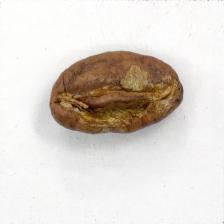NG: (61, 63, 178, 134)
